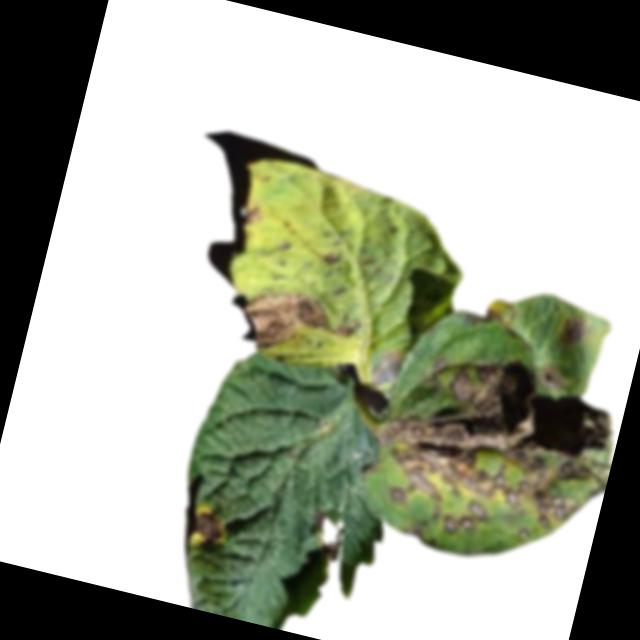Early_blight: (359, 335, 628, 565), (235, 278, 365, 369), (305, 506, 348, 564), (464, 295, 519, 334), (190, 504, 230, 548), (556, 313, 591, 347), (536, 360, 570, 393), (243, 202, 263, 225), (320, 247, 340, 267)
